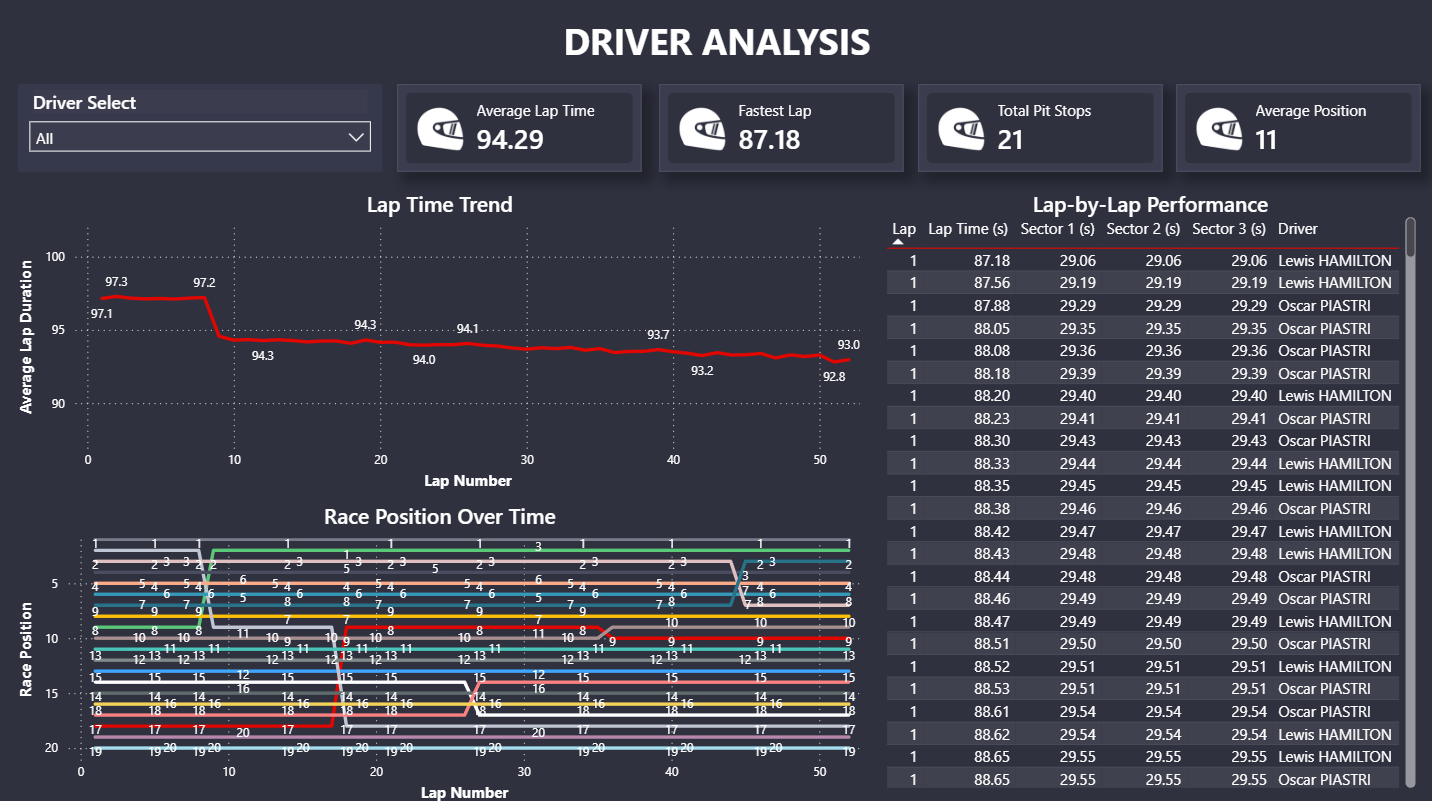

This screenshot's page, from the dashboard's own definition file:
{"tool":"powerbi","page":{"name":"Driver Analysis","canvas":[1280,720],"ordinal":1},"visuals":[{"type":"lineChart","title":"Lap Time Trend","fields":{"Y":["Avg(laps_clean.Lap Duration)"],"Category":["laps_clean.lap_number"]},"box":[16.9,172.1,755.2,271.8],"z":0},{"type":"cardVisual","title":"Avg. Lap Duration","fields":{"Data":["drivers_clean.Average Lap Time"]},"box":[356.4,79,217.3,78.1],"z":1000},{"type":"cardVisual","fields":{"Data":["Min(race_summary.fastest_lap)"]},"box":[588.7,79,217.3,78.1],"z":2000},{"type":"cardVisual","fields":{"Data":["Sum(race_summary.pit_stops)"]},"box":[818.2,79,217.3,78.1],"z":3000},{"type":"cardVisual","fields":{"Data":["Avg(positions_clean.position)"]},"box":[1046.8,79,217.3,78.1],"z":4000},{"type":"lineChart","title":"Race Position Over Time","fields":{"Category":["positions_clean.lap_number"],"Y":["Avg(positions_clean.position)"],"Series":["positions_clean.driver_number"]},"box":[16.9,448.6,755.2,271.8],"z":5000},{"type":"slicer","fields":{"Values":["race_summary.full_name"]},"box":[20.7,79,322.6,78.1],"z":6000},{"type":"textbox","box":[258.9,13.3,762.6,89.6],"z":7000},{"type":"tableEx","title":"Lap-by-Lap Performance","fields":{"Values":["positions_clean.lap_number","laps_clean.Lap Duration","laps_clean.duration_sector_1","laps_clean.duration_sector_2","laps_clean.duration_sector_3","drivers_clean.full_name"]},"box":[784.4,172.1,479.6,536.1],"z":8000}]}

Visuals, with their boxes in screenshot pixels (x1, y1, x2, y2), scaled from the page's 1280x720 canvas onto the 1432x801 screenshot:
"Lap Time Trend" lineChart: locate(19, 191, 864, 494)
"Avg. Lap Duration" cardVisual: locate(399, 88, 642, 175)
cardVisual - Min(race_summary.fastest_lap): locate(659, 88, 902, 175)
cardVisual - Sum(race_summary.pit_stops): locate(915, 88, 1158, 175)
cardVisual - Avg(positions_clean.position): locate(1171, 88, 1414, 175)
"Race Position Over Time" lineChart: locate(19, 499, 864, 800)
slicer - race_summary.full_name: locate(23, 88, 384, 175)
textbox: locate(290, 15, 1143, 114)
"Lap-by-Lap Performance" tableEx: locate(878, 191, 1414, 788)
